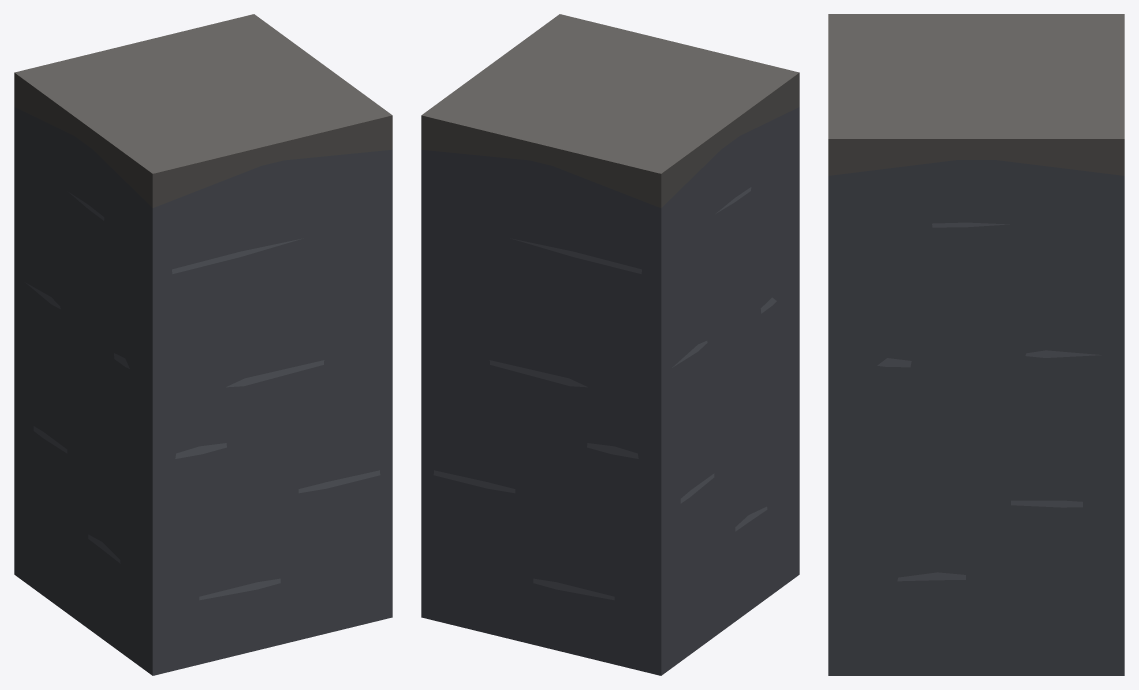
The model's file is 20C_upstairs03.fbx.
The picture shows the model from 3 angles, left to right: view 1: azimuth 30°, elevation 25°; view 2: azimuth 150°, elevation 25°; view 3: azimuth 270°, elevation 25°; orthographic projection. The views are drawn at different scales.
Parts seen in each view (by area): view 1: 20C_upstairs03; view 2: 20C_upstairs03; view 3: 20C_upstairs03.
Boxes of the visible parts, x1,y1,x2,y2 form: 20C_upstairs03: [14, 14, 392, 675]; 20C_upstairs03: [421, 14, 799, 675]; 20C_upstairs03: [828, 14, 1124, 675].
Bounding box in the file's own units: 10 × 20 × 10.
1 material, 1 textured.
